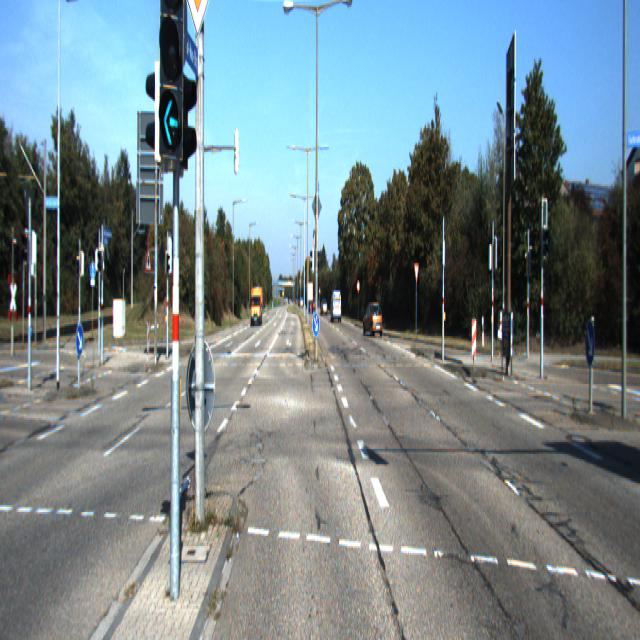Car: (362, 300, 383, 337), (250, 286, 263, 328)
